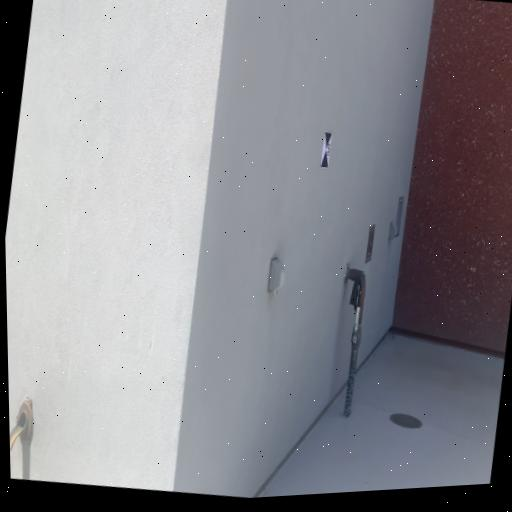target5: (319, 130, 334, 169)
